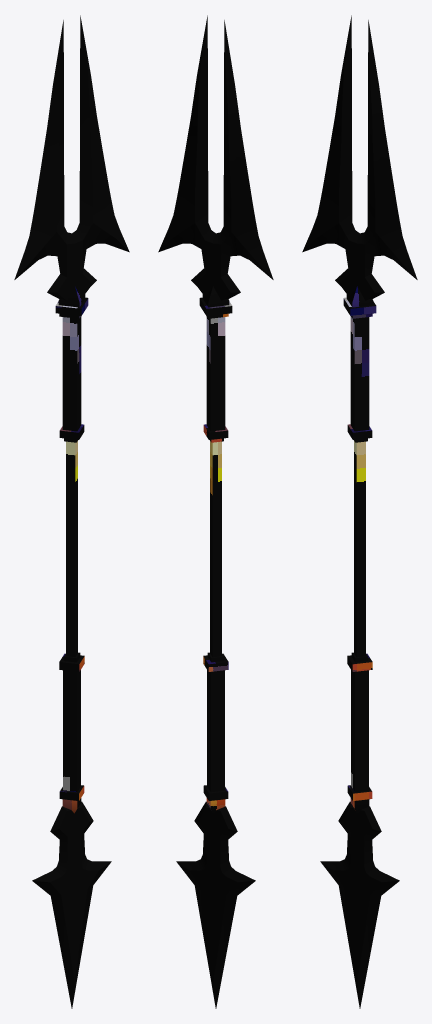
Rendered from brume.obj.
The picture shows the model from 3 angles, left to right: view 1: azimuth 30°, elevation 25°; view 2: azimuth 150°, elevation 25°; view 3: azimuth 330°, elevation 25°; orthographic projection.
Visible parts, largest first — view 1: Vert.002; view 2: Vert.002; view 3: Vert.002.
Boxes of the visible parts, x1,y1,x2,y2 form: Vert.002: [14, 15, 129, 1008]; Vert.002: [158, 15, 273, 1008]; Vert.002: [302, 15, 417, 1008].
Bounding box in the file's own units: 28.54 × 234 × 8.13.
